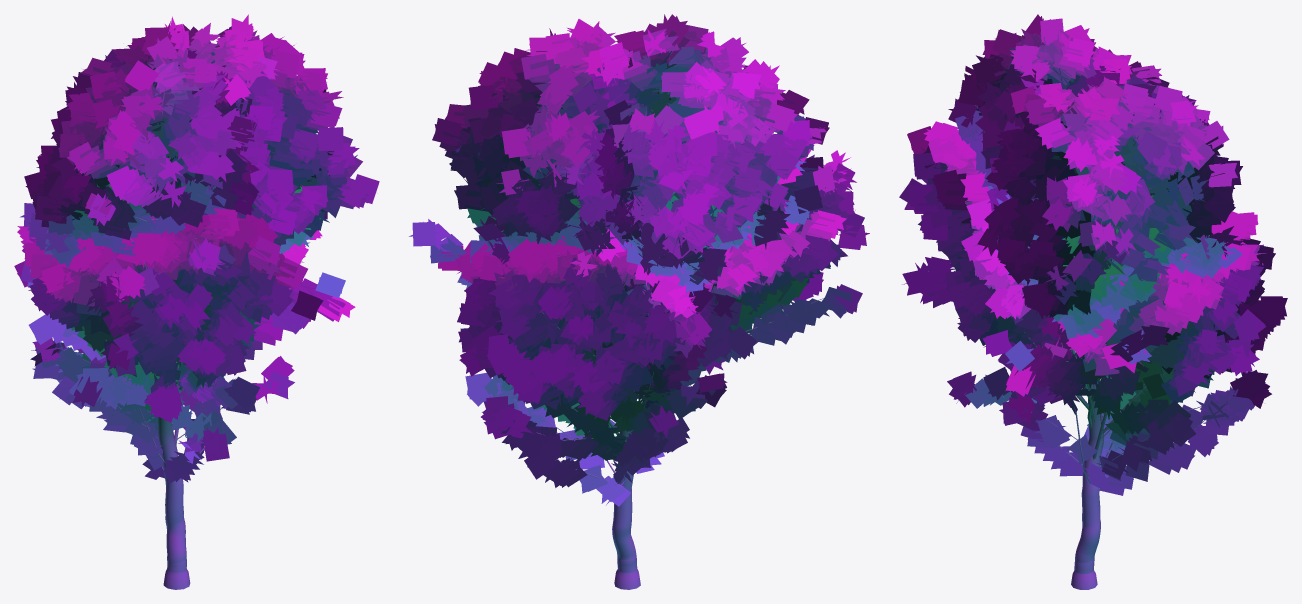
File: tree_birch_s10_a30.fbx
3 renders of one model, left to right at view 1: azimuth 30°, elevation 25°; view 2: azimuth 150°, elevation 25°; view 3: azimuth 270°, elevation 25°, orthographic. The views are drawn at different scales.
Visible parts, largest first — view 1: tree_birch_s10_a30_leaves, tree_birch_s10_a30_branches; view 2: tree_birch_s10_a30_leaves, tree_birch_s10_a30_branches; view 3: tree_birch_s10_a30_leaves, tree_birch_s10_a30_branches.
Boxes of the visible parts, <box> form: tree_birch_s10_a30_leaves: <box>14,14,379,483</box>; tree_birch_s10_a30_branches: <box>81,62,326,589</box>; tree_birch_s10_a30_leaves: <box>409,14,869,506</box>; tree_birch_s10_a30_branches: <box>498,54,825,589</box>; tree_birch_s10_a30_leaves: <box>899,14,1287,495</box>; tree_birch_s10_a30_branches: <box>1024,83,1232,589</box>.
Bounding box in the file's own units: 8.29 × 12.55 × 8.
